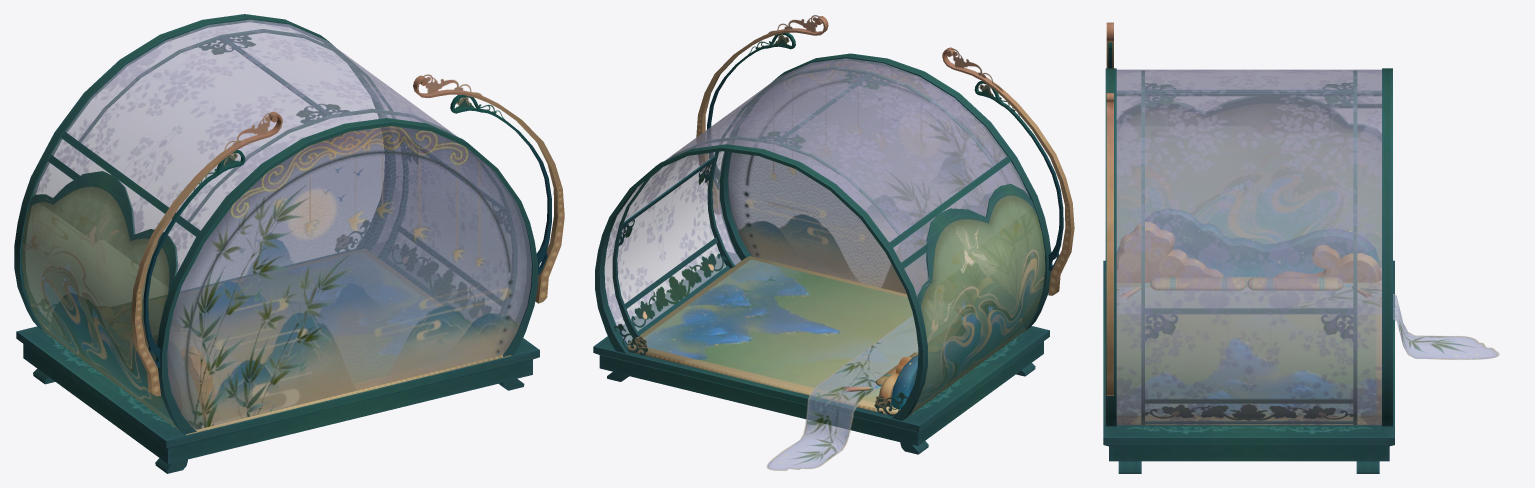
Rendered from furniture-19309.glb.
The picture shows the model from 3 angles, left to right: view 1: azimuth 30°, elevation 25°; view 2: azimuth 150°, elevation 25°; view 3: azimuth 270°, elevation 25°; orthographic projection. The views are drawn at different scales.
Size of the model in its own units: 4.86 by 3.7 by 4.2.
2 materials, 2 textured.
